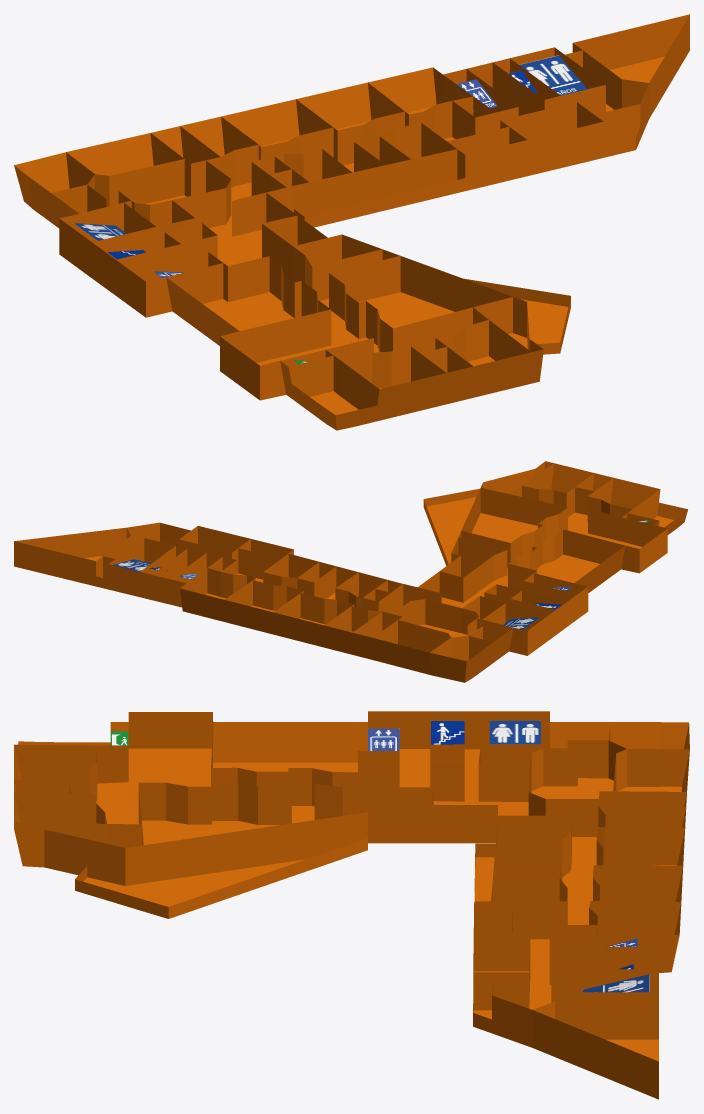
Rendered from piso4.glb.
3 views of the same model, one above another, from view 1: azimuth 30°, elevation 25°; view 2: azimuth 150°, elevation 25°; view 3: azimuth 270°, elevation 25° (orthographic). The views are drawn at different scales.
Visible parts, largest first — view 1: Plano.008; view 2: Plano.008; view 3: Plano.008.
Boxes of the visible parts, left/top/right/bottom form: Plano.008: left=14, top=14, right=689, bottom=430; Plano.008: left=14, top=461, right=687, bottom=682; Plano.008: left=14, top=711, right=689, bottom=1099.
Size of the model in its own units: 14.21 by 0.731 by 11.6.
6 materials, 4 textured.
